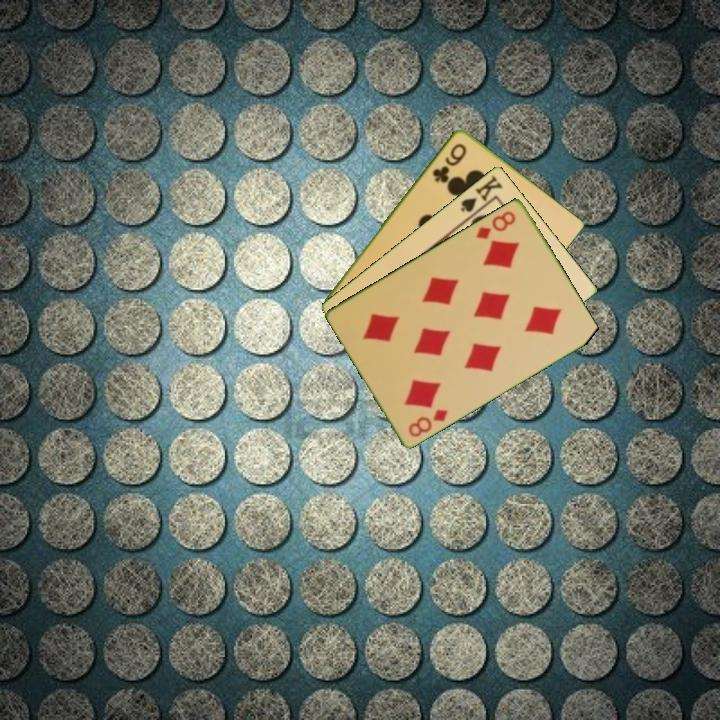8d: (472, 207, 519, 242), (405, 405, 451, 440)
9c: (429, 139, 470, 185)
Ks: (457, 171, 506, 222)
